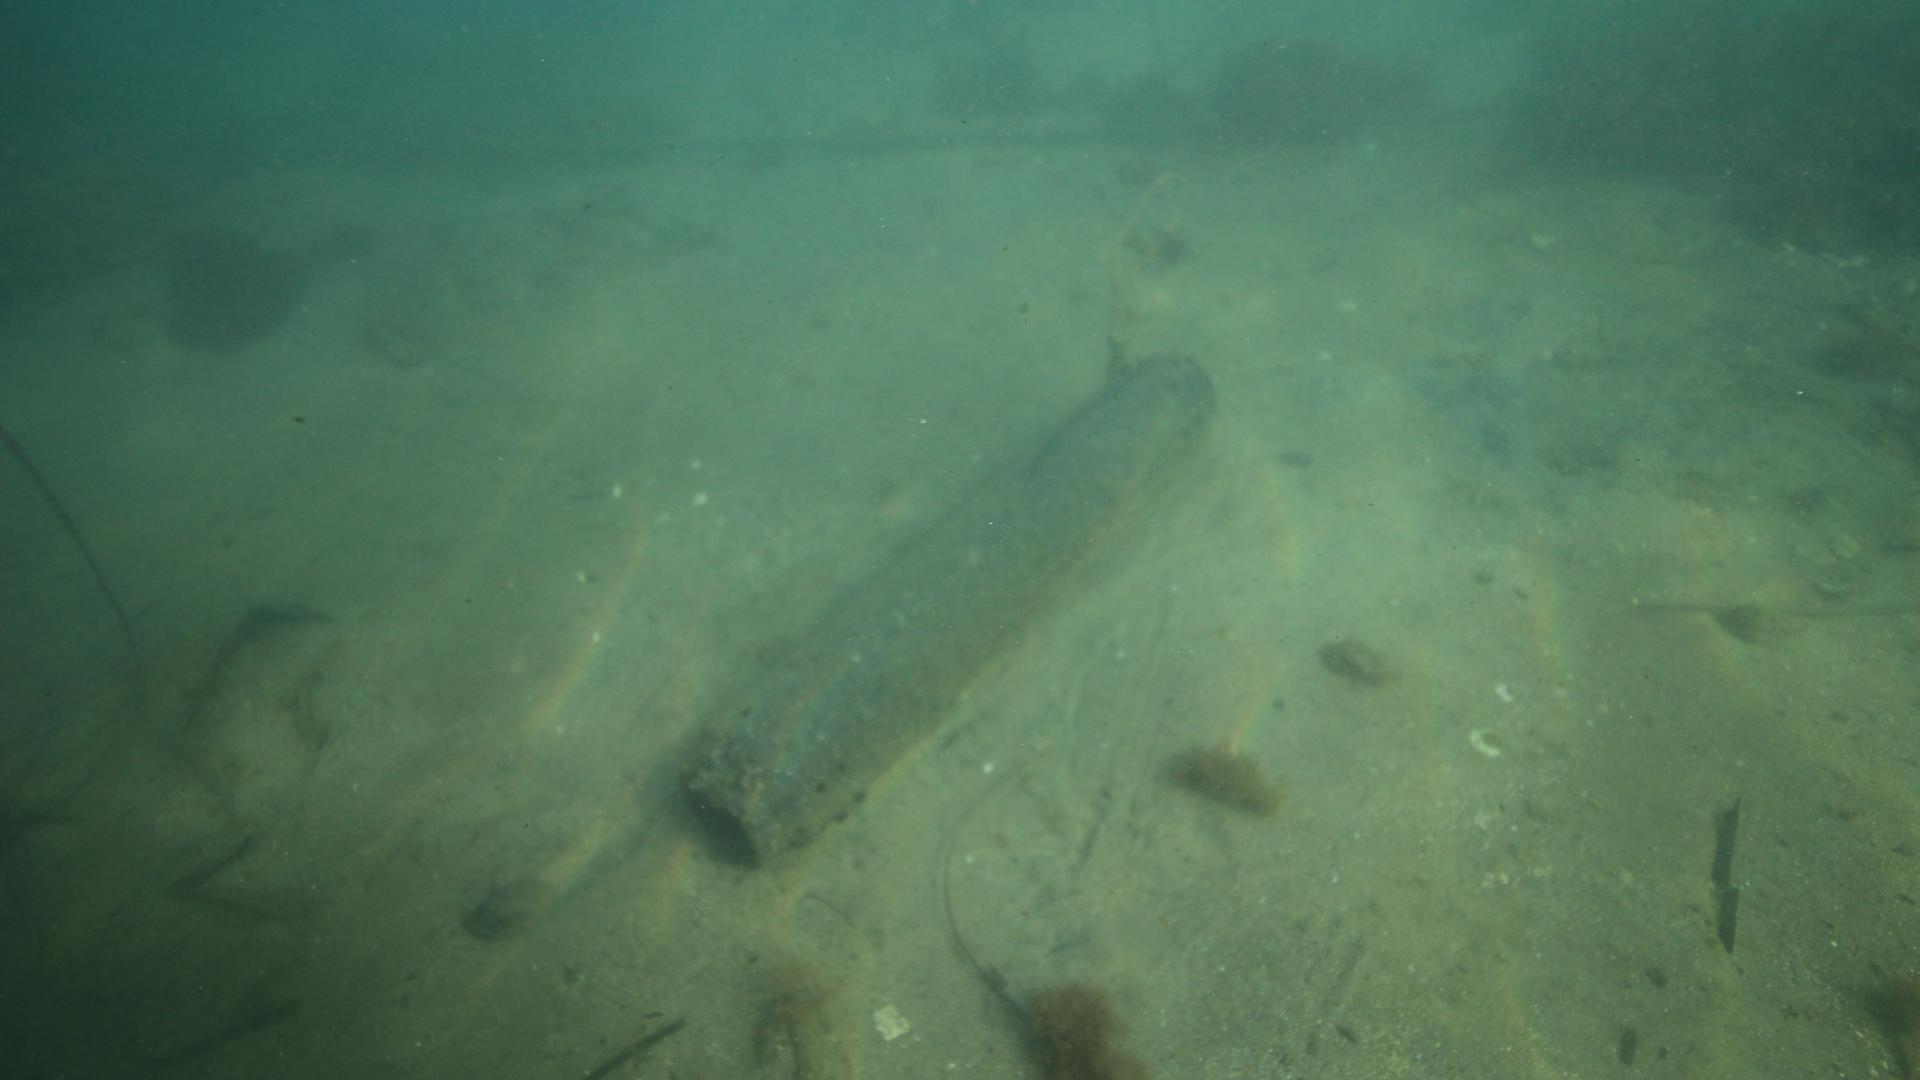bundle of ropes: (1105, 170, 1185, 384)
eel fish trap: (684, 349, 1215, 869)
